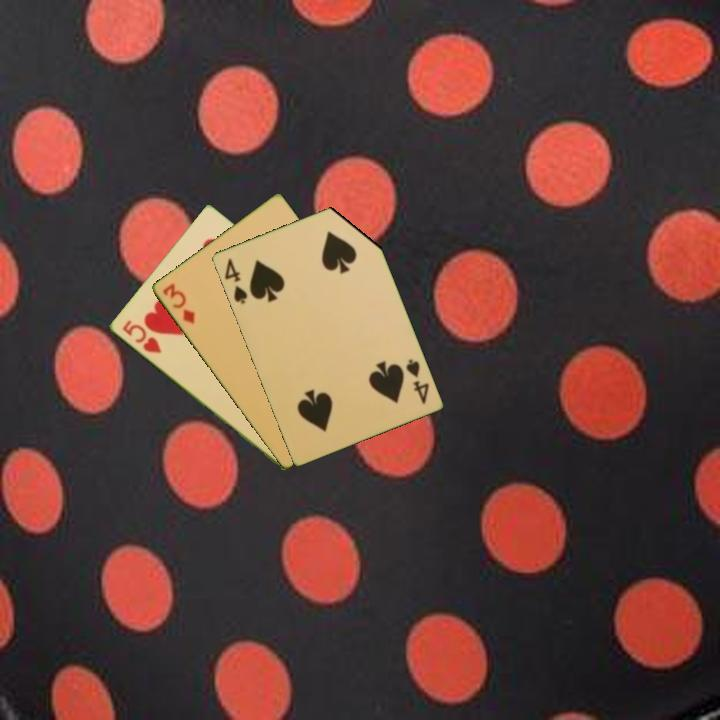3d: (158, 279, 198, 327)
4s: (220, 254, 250, 307), (402, 355, 432, 407)
5h: (118, 316, 164, 356)
